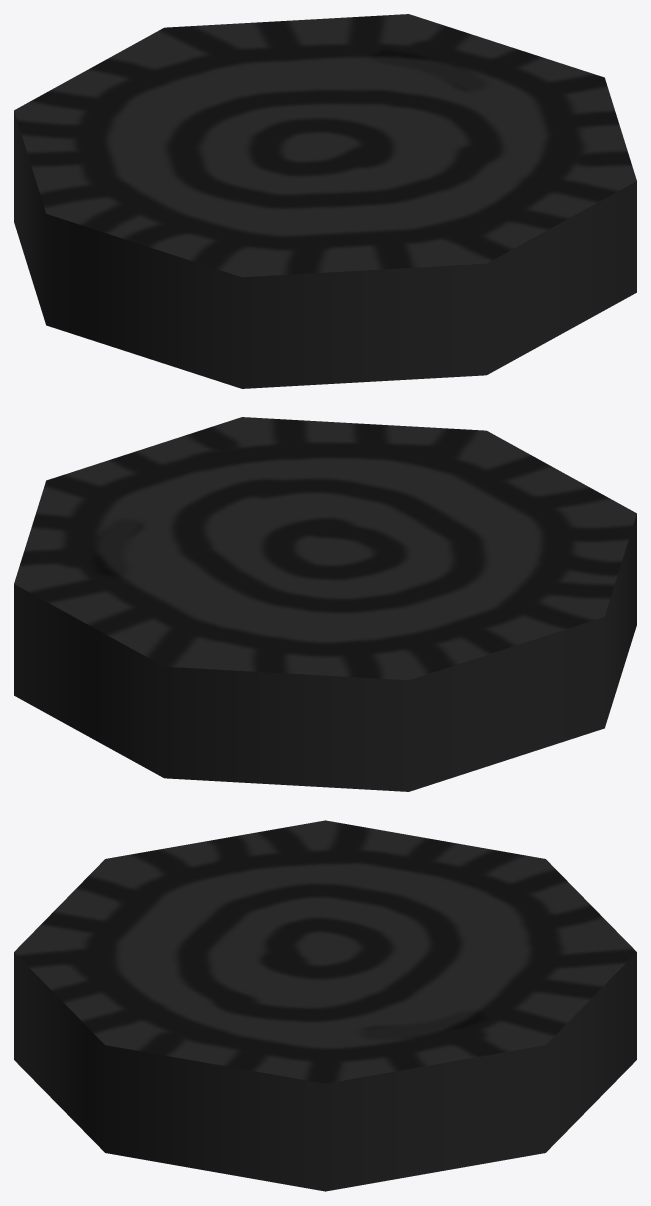
Rendered from obj_CheckerPieceBlack.fbx.
3 views of the same model, one above another, from view 1: azimuth 30°, elevation 25°; view 2: azimuth 150°, elevation 25°; view 3: azimuth 270°, elevation 25° (orthographic). The views are drawn at different scales.
Parts seen in each view (by area): view 1: obj_CheckerPieceBlack; view 2: obj_CheckerPieceBlack; view 3: obj_CheckerPieceBlack.
Part boxes in pixels (x1,y1,x2,y2): obj_CheckerPieceBlack: [14, 14, 636, 388]; obj_CheckerPieceBlack: [14, 417, 636, 791]; obj_CheckerPieceBlack: [14, 820, 636, 1191].
Size of the model in its own units: 0.0502 by 0.0096 by 0.0502.
1 material, 1 textured.
